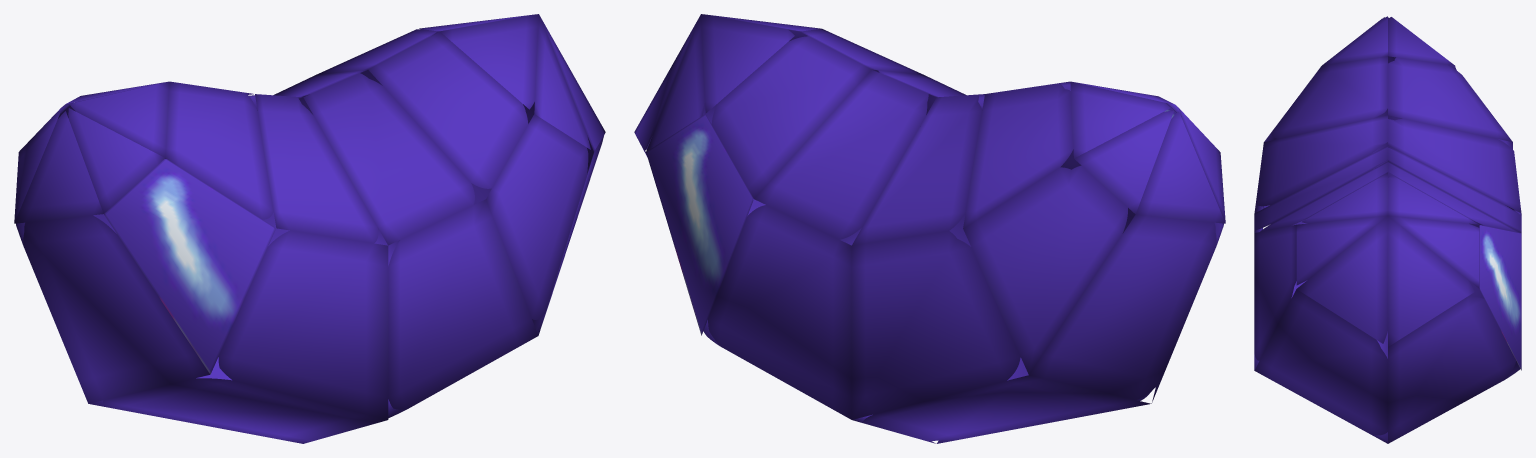
The picture shows the model from 3 angles, left to right: view 1: azimuth 30°, elevation 25°; view 2: azimuth 150°, elevation 25°; view 3: azimuth 270°, elevation 25°; orthographic projection. The views are drawn at different scales.
Parts seen in each view (by area): view 1: T1L2M002_12; view 2: T1L2M002_12; view 3: T1L2M002_12.
Boxes of the visible parts, <box> form: T1L2M002_12: <box>14,14,605,443</box>; T1L2M002_12: <box>634,14,1225,443</box>; T1L2M002_12: <box>1254,16,1521,443</box>.
Size of the model in its own units: 0.5615 by 0.3604 by 0.2793.
